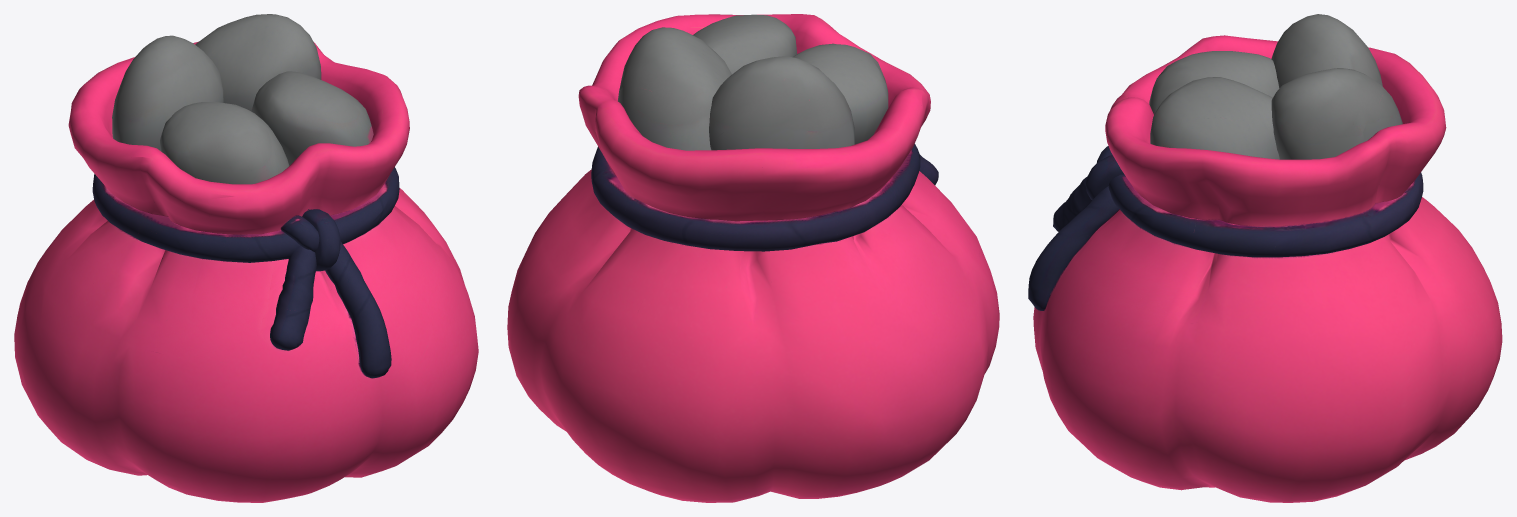
Rendered from robux_pockets.glb.
The picture shows the model from 3 angles, left to right: view 1: azimuth 30°, elevation 25°; view 2: azimuth 150°, elevation 25°; view 3: azimuth 270°, elevation 25°; orthographic projection. The views are drawn at different scales.
Size of the model in its own units: 0.9375 by 0.8623 by 0.9507.
Materials: 1 (1 with a texture image).
